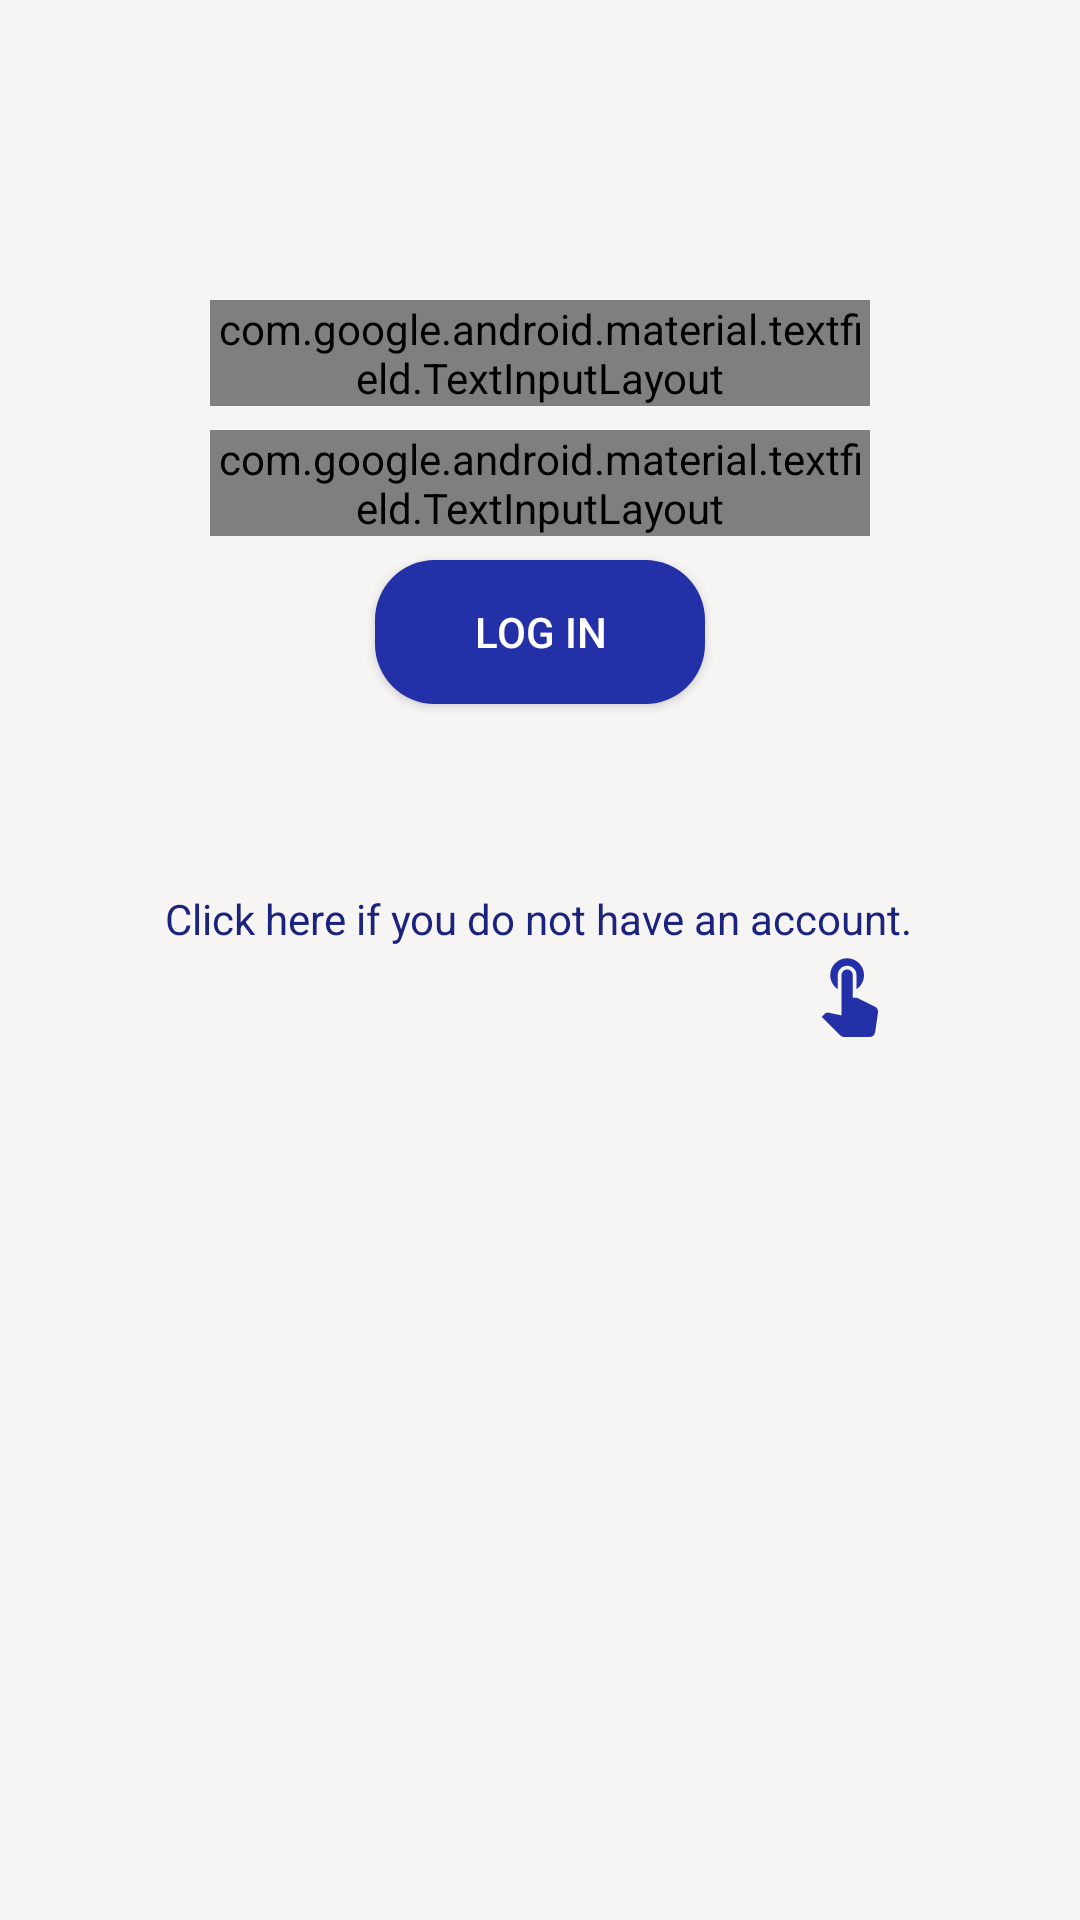

Icon click points for this 1080 x 1920 phone screenshot, format point (x, y):
touch: point (850, 997)
